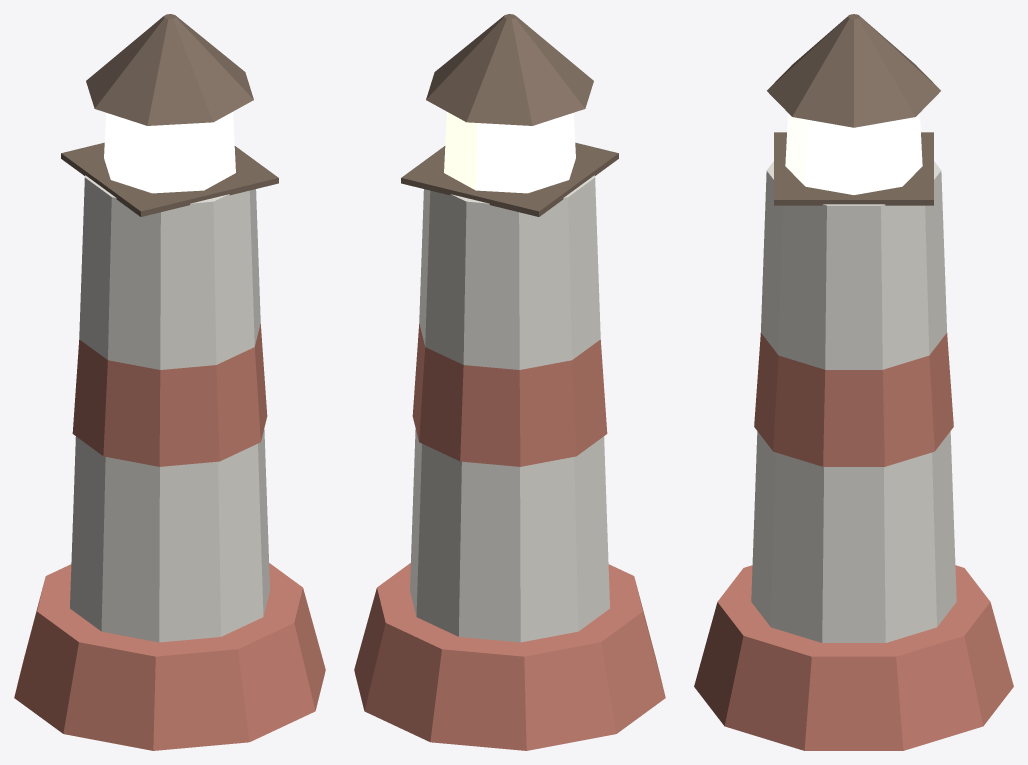
File: lighthouse.glb
3 views of the same model, side by side, from view 1: azimuth 30°, elevation 25°; view 2: azimuth 150°, elevation 25°; view 3: azimuth 270°, elevation 25° (orthographic).
Visible parts, largest first — view 1: Tower, Base, Stripe, Cap, Lantern, Gallery; view 2: Tower, Base, Stripe, Cap, Lantern, Gallery; view 3: Tower, Base, Stripe, Cap, Lantern, Gallery.
Part boxes in pixels (left/top/right/bottom): Tower: left=70, top=175, right=269, bottom=642; Base: left=14, top=563, right=325, bottom=750; Stripe: left=72, top=324, right=267, bottom=466; Cap: left=86, top=14, right=253, bottom=125; Lantern: left=104, top=112, right=235, bottom=193; Gallery: left=61, top=142, right=278, bottom=216; Tower: left=410, top=175, right=609, bottom=642; Base: left=354, top=563, right=665, bottom=750; Stripe: left=412, top=324, right=607, bottom=466; Cap: left=426, top=14, right=593, bottom=125; Lantern: left=444, top=112, right=575, bottom=193; Gallery: left=401, top=142, right=618, bottom=216; Tower: left=751, top=161, right=956, bottom=642; Base: left=694, top=565, right=1013, bottom=750; Stripe: left=754, top=333, right=953, bottom=466; Cap: left=767, top=14, right=940, bottom=127; Lantern: left=785, top=113, right=922, bottom=194; Gallery: left=774, top=132, right=933, bottom=205.
Size of the model in its own units: 3.9 by 9.47 by 4.1.
